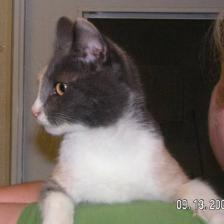cat: (28, 13, 150, 137)
